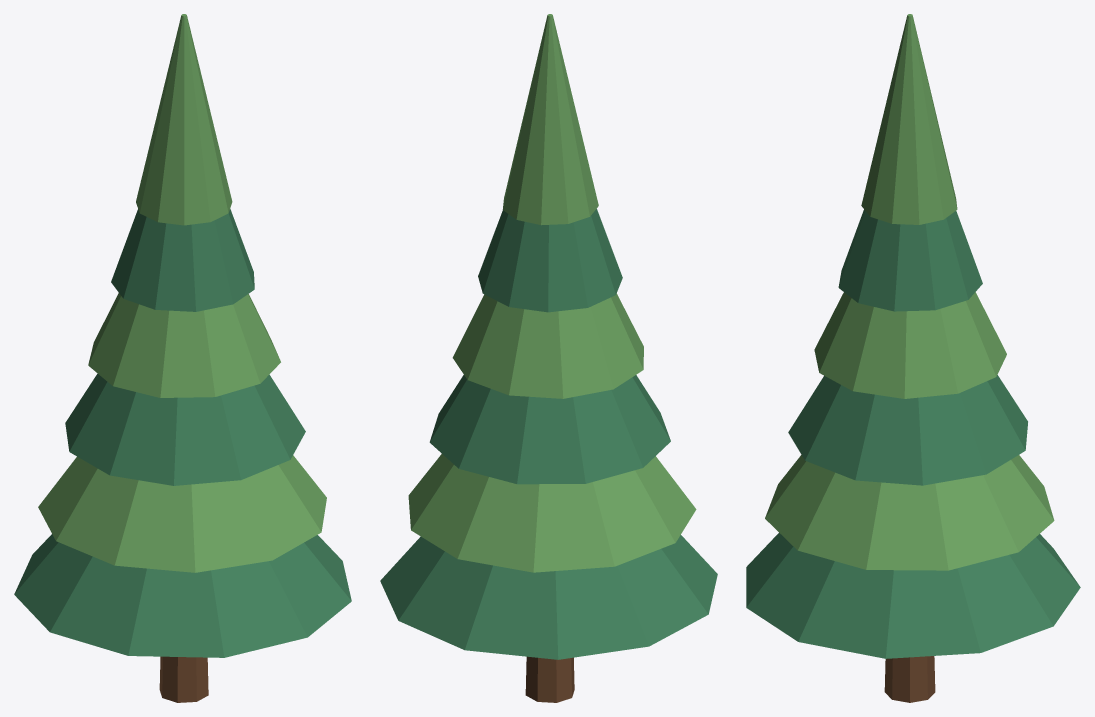
The model's file is Oyamel.fbx.
The picture shows the model from 3 angles, left to right: view 1: azimuth 30°, elevation 25°; view 2: azimuth 150°, elevation 25°; view 3: azimuth 270°, elevation 25°; orthographic projection.
Visible parts, largest first — view 1: Oyamel; view 2: Oyamel; view 3: Oyamel.
Part boxes in pixels (bbox=[...]): Oyamel: bbox=[14, 14, 351, 702]; Oyamel: bbox=[380, 14, 717, 702]; Oyamel: bbox=[746, 14, 1080, 702].
Bounding box in the file's own units: 3.07 × 6.78 × 3.04.
